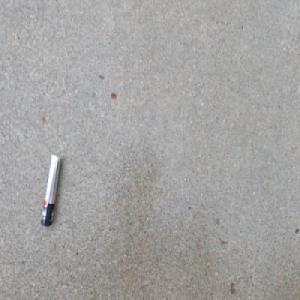Battery: (40, 152, 62, 229)
